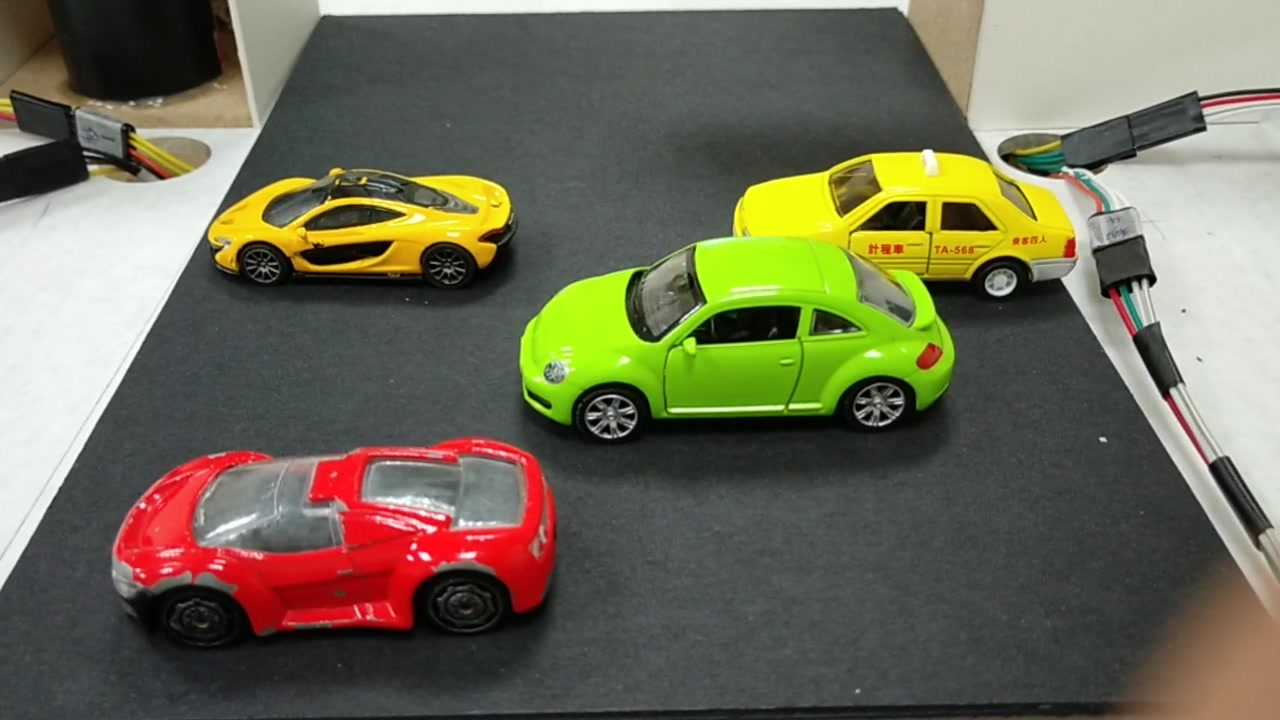car: (127, 440, 559, 649), (534, 242, 937, 424), (744, 150, 1075, 282), (218, 174, 511, 273)
